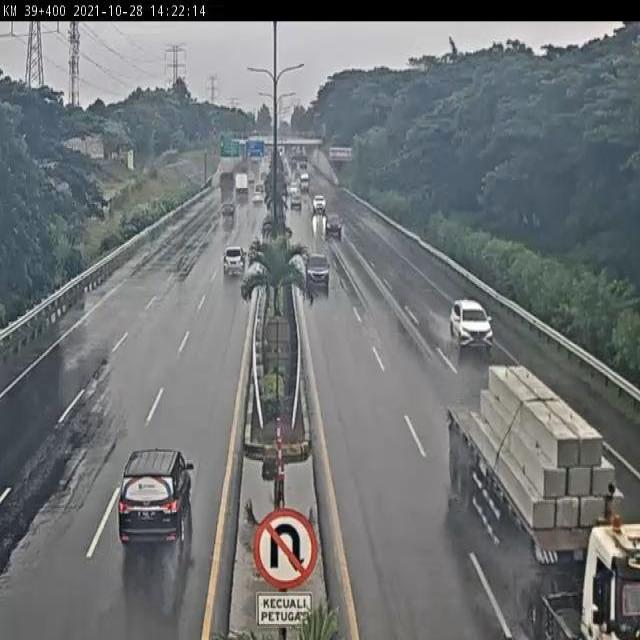car: (117, 444, 195, 545), (451, 301, 493, 351), (303, 250, 331, 290), (222, 242, 247, 274)
truck-l-: (449, 364, 640, 640)
